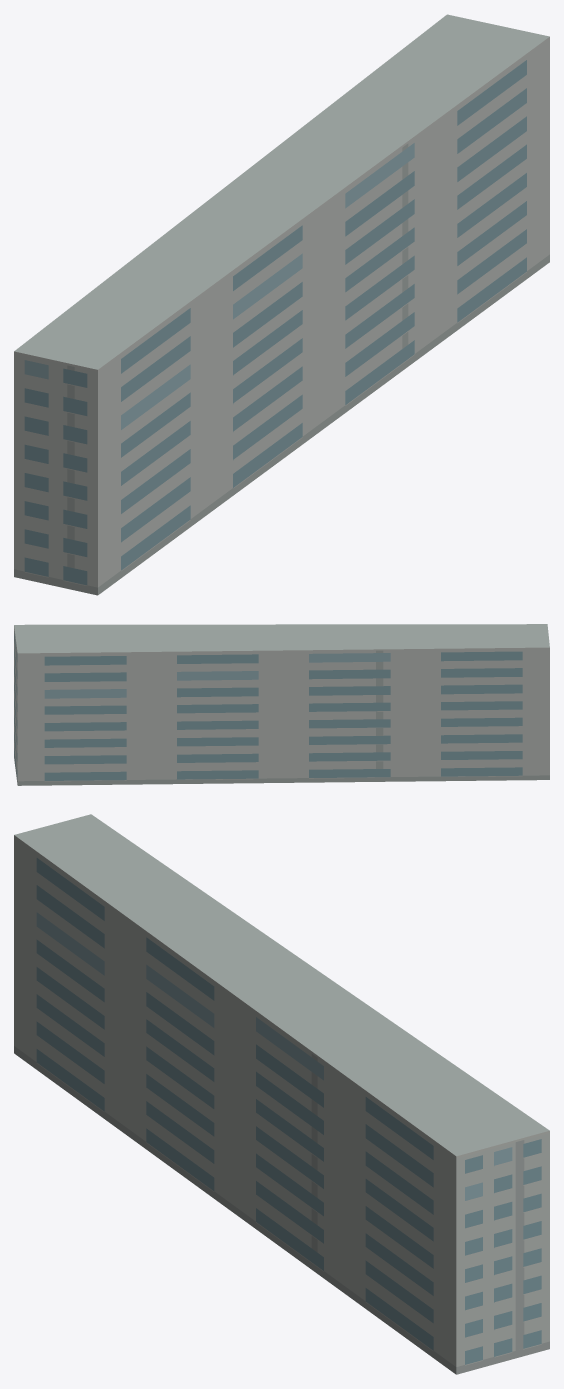
Rendered from residential-45606ef8-91ef-443a-8cc1-75fa8995091b.glb.
The picture shows the model from 3 angles, top to bottom: view 1: azimuth 30°, elevation 25°; view 2: azimuth 150°, elevation 25°; view 3: azimuth 270°, elevation 25°; orthographic projection. The views are drawn at different scales.
Parts seen in each view (by area): view 1: residential-45606ef8-91ef-443a-8cc1-75fa8995091b.tmp; view 2: residential-45606ef8-91ef-443a-8cc1-75fa8995091b.tmp; view 3: residential-45606ef8-91ef-443a-8cc1-75fa8995091b.tmp.
Boxes of the visible parts, <box> form: residential-45606ef8-91ef-443a-8cc1-75fa8995091b.tmp: <box>14,14,549,595</box>; residential-45606ef8-91ef-443a-8cc1-75fa8995091b.tmp: <box>14,624,549,785</box>; residential-45606ef8-91ef-443a-8cc1-75fa8995091b.tmp: <box>14,814,549,1374</box>.
Size of the model in its own units: 81.99 by 24.4 by 54.27.
